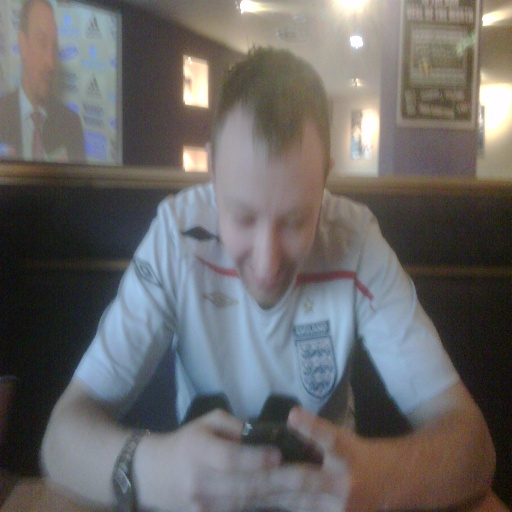hand: (241, 401, 387, 511), (160, 412, 304, 511)
